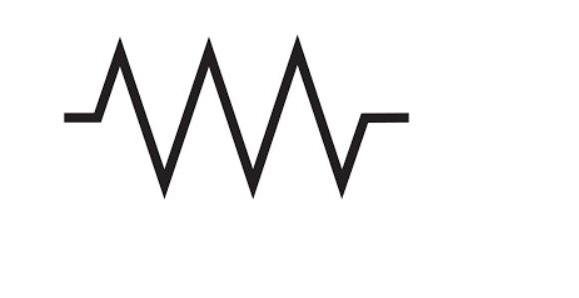resistor: (87, 14, 373, 225)
